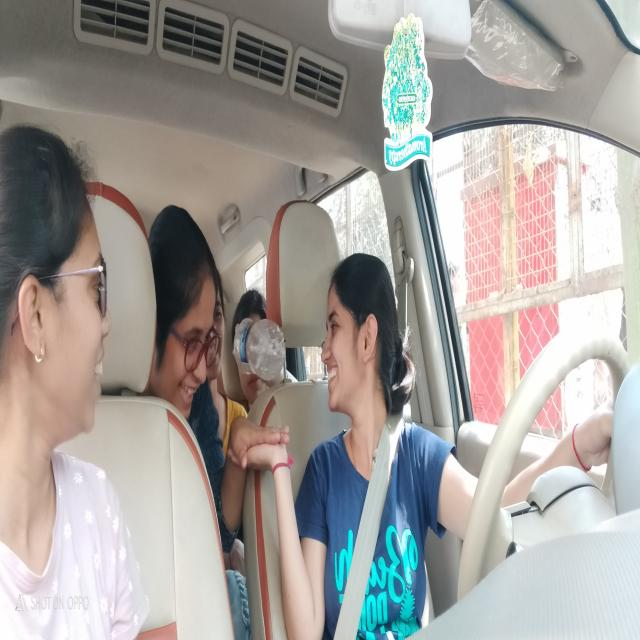LeftRight: (9, 134, 112, 437), (319, 266, 390, 418)
person: (164, 222, 216, 407), (216, 281, 231, 384)
talking: (90, 352, 109, 391), (324, 366, 339, 388)
